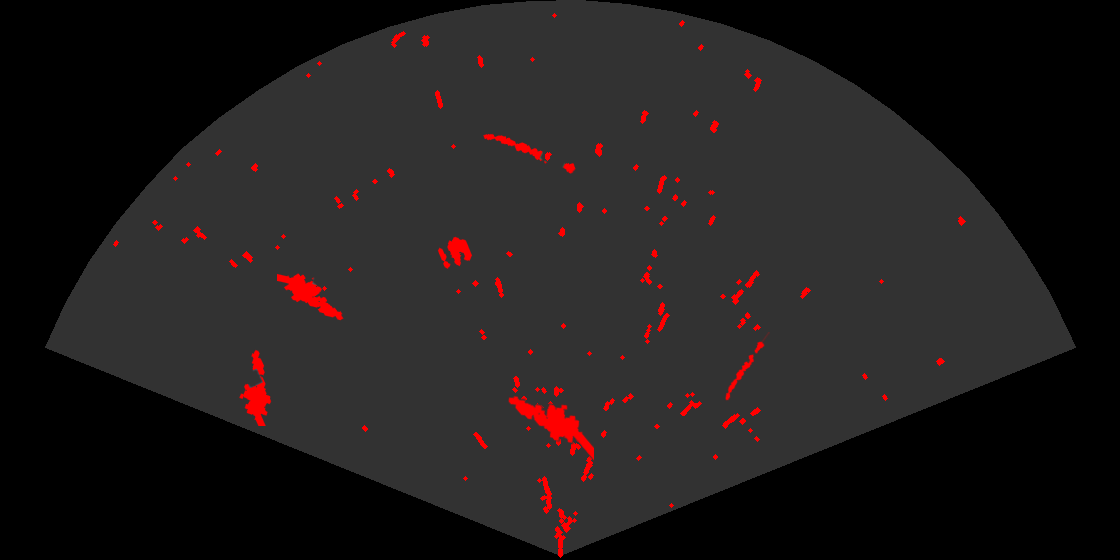ball: (436, 235, 474, 270)
chain: (482, 132, 577, 175), (724, 332, 770, 402)
frogman: (507, 394, 594, 462), (277, 272, 345, 322), (238, 349, 273, 426)
